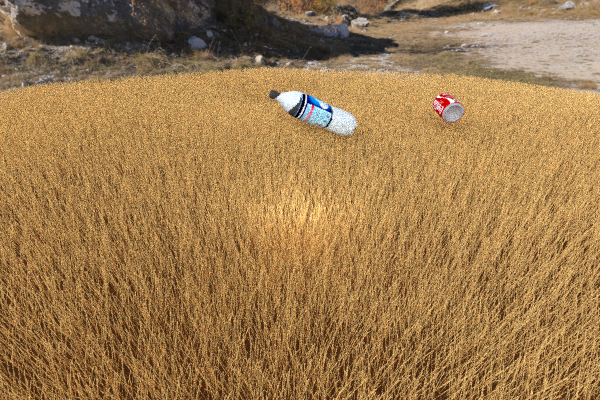bottle: (269, 89, 357, 136)
can: (432, 93, 464, 122)
